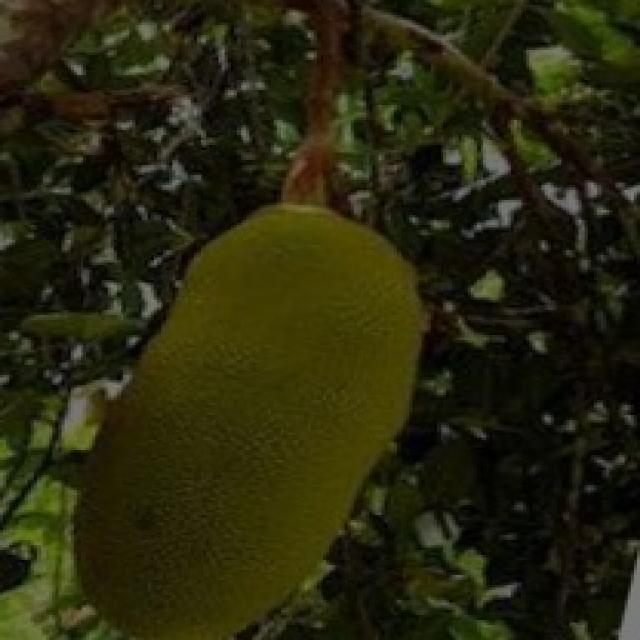Fruit: (61, 188, 474, 632)
